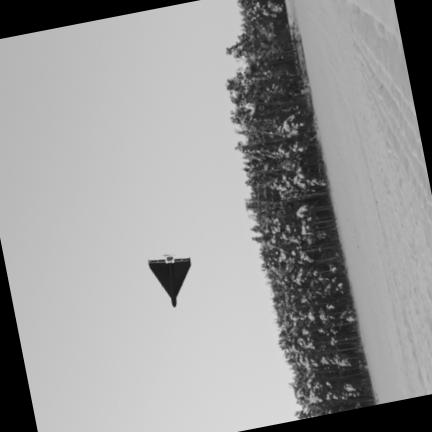Shahed: (149, 255, 190, 306)
